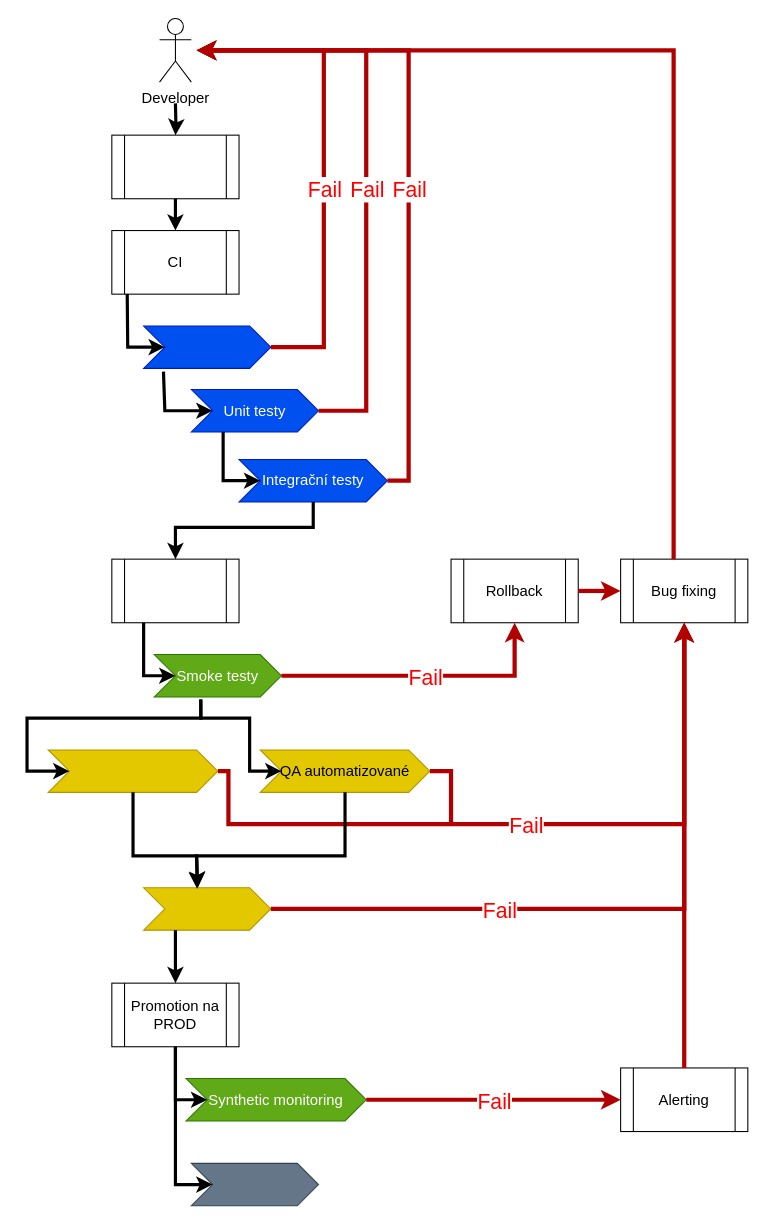
The diagram is 766 pixels wide and 1224 high, and some of its shapes have lost their labels. Here are the shapes that lost their labels. From the top down, the box of each, then its label:
(111, 134, 239, 199): Pull request
(143, 325, 271, 368): Arch testy
(111, 558, 239, 623): Deploy do QA prostředí
(47, 749, 218, 792): QA Manuální
(143, 887, 271, 930): E2E testy
(190, 1162, 319, 1206): A/B Testy
